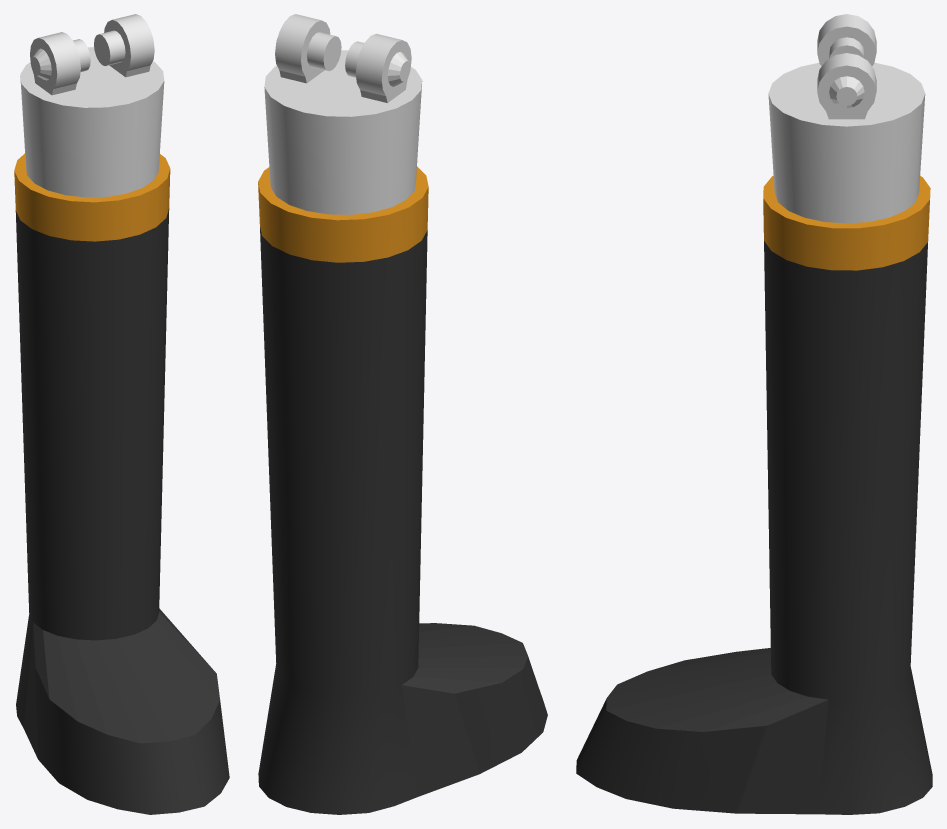
File: ZenyattaRightFoot.fbx
3 views of the same model, side by side, from view 1: azimuth 30°, elevation 25°; view 2: azimuth 150°, elevation 25°; view 3: azimuth 270°, elevation 25° (orthographic). The views are drawn at different scales.
Visible parts, largest first — view 1: pPipe29; view 2: pPipe29; view 3: pPipe29.
Part boxes in pixels (x1,y1,x2,y2): pPipe29: (14,14,229,814); pPipe29: (258,14,547,814); pPipe29: (576,14,932,814).
Bounding box in the file's own units: 6.35 × 25.13 × 10.97.
